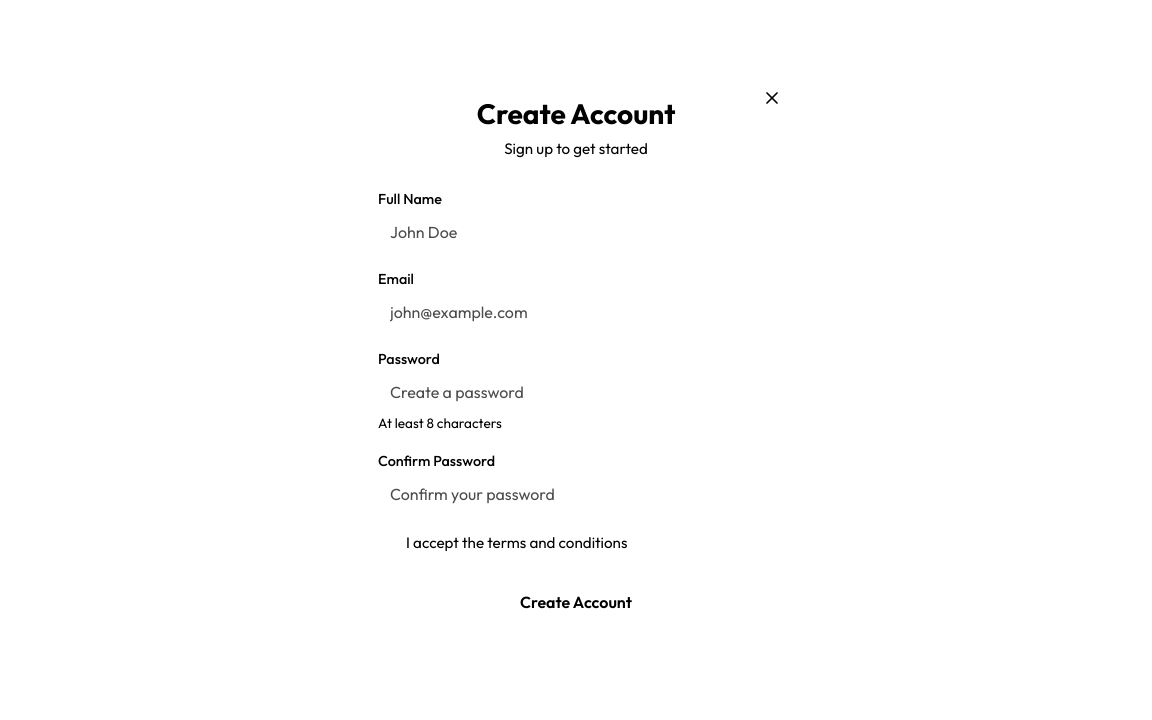
Scenario: RegisterModal Component › Password Validation › shows error when passwords do not match
This screenshot has width=1152, height=720.
Type "password123" into the password field labelled "Password" at (576, 392), box [378, 374, 774, 410]
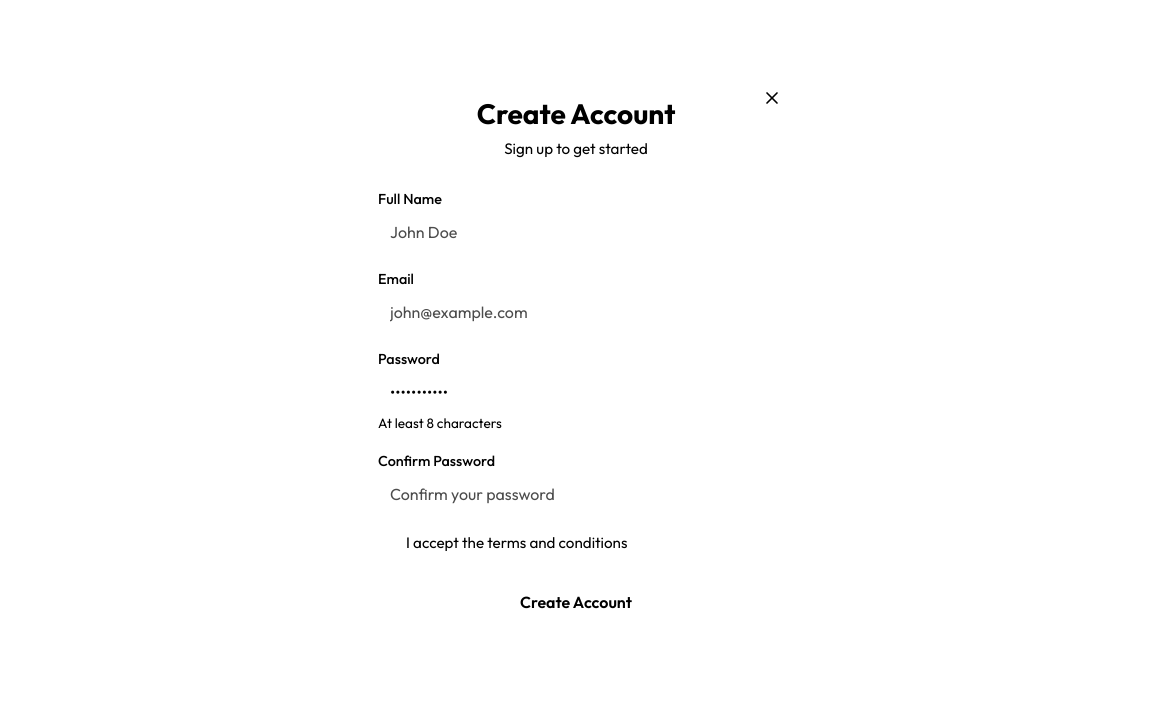
Type "different" into the password field labelled "Confirm Password" at (576, 494), box [378, 476, 774, 512]
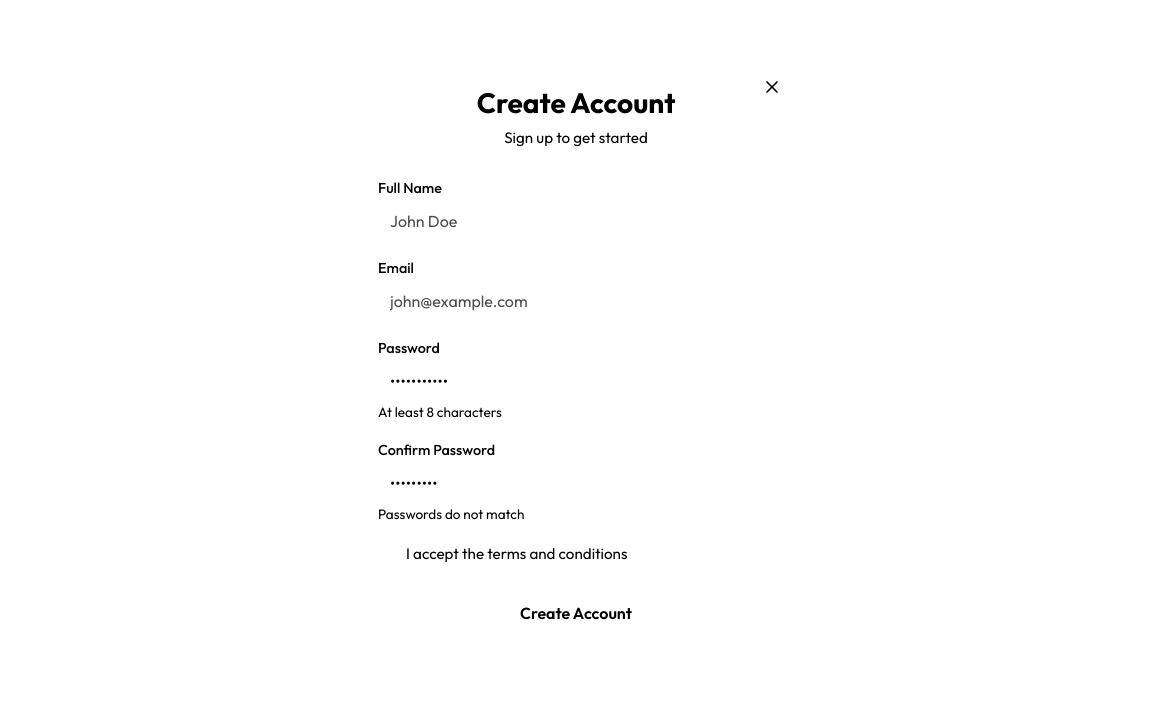
Expected: the text "Passwords do not match" is shown, [378, 505, 524, 523]
